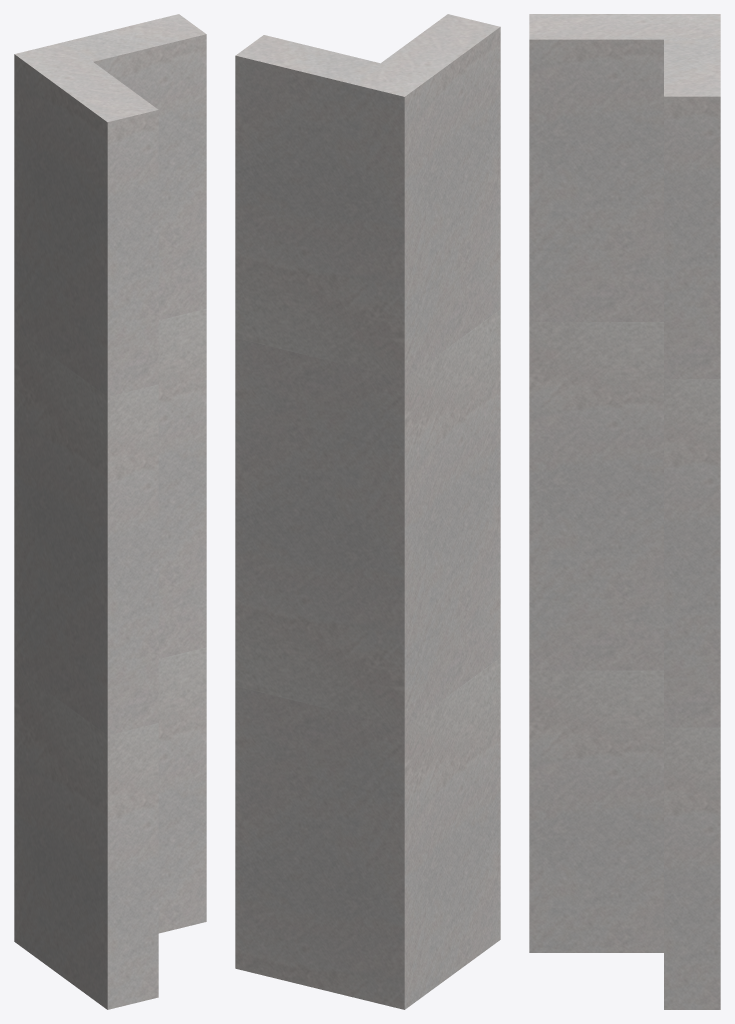
File: pillar.fbx
3 renders of one model, left to right at view 1: azimuth 30°, elevation 25°; view 2: azimuth 150°, elevation 25°; view 3: azimuth 270°, elevation 25°, orthographic. The views are drawn at different scales.
Parts seen in each view (by area): view 1: pillar; view 2: pillar; view 3: pillar.
Boxes of the visible parts, left/top/right/bottom form: pillar: left=14, top=14, right=206, bottom=1009; pillar: left=235, top=14, right=500, bottom=1009; pillar: left=529, top=14, right=720, bottom=1009.
Size of the model in its own units: 61.84 by 319 by 60.61.
